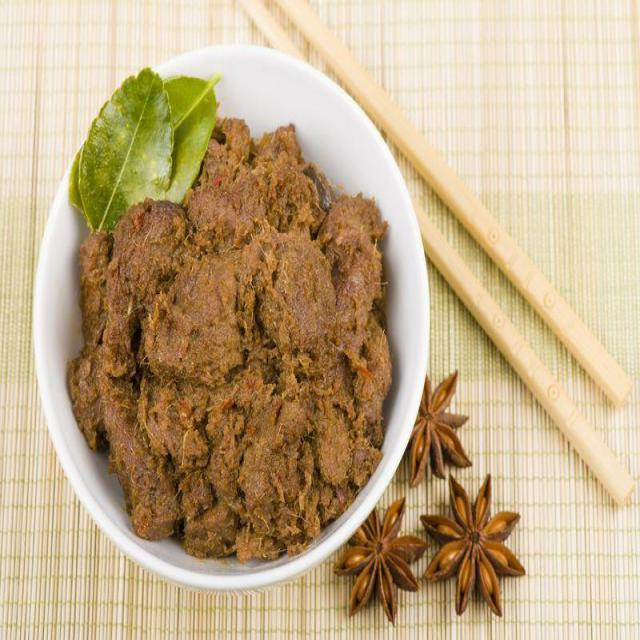Rendang: (69, 119, 396, 568)
